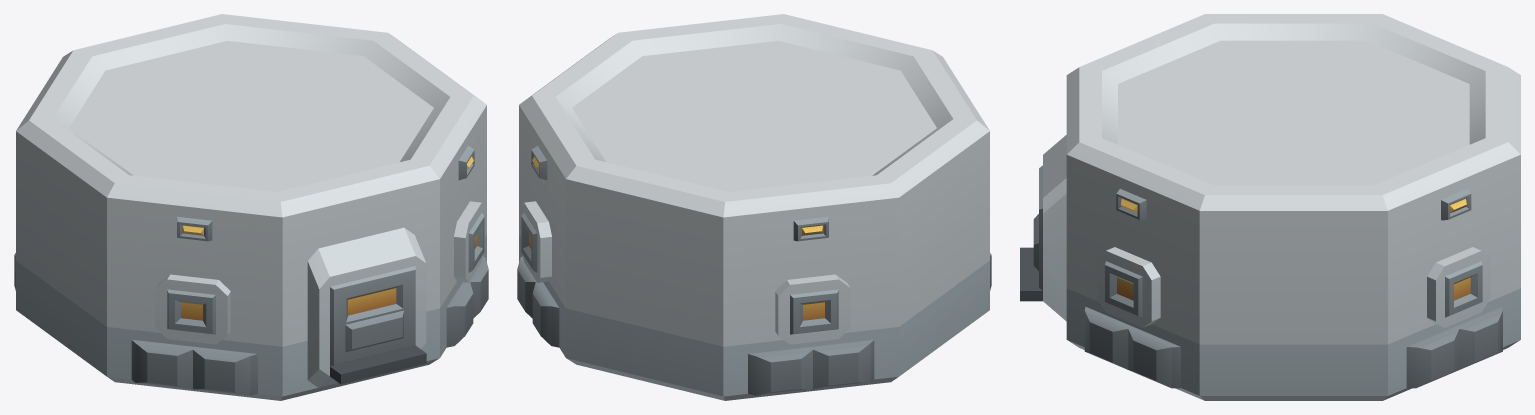
File: basemodule_C.obj
The picture shows the model from 3 angles, left to right: view 1: azimuth 30°, elevation 25°; view 2: azimuth 150°, elevation 25°; view 3: azimuth 270°, elevation 25°; orthographic projection. The views are drawn at different scales.
Size of the model in its own units: 2 by 1 by 2.21.
